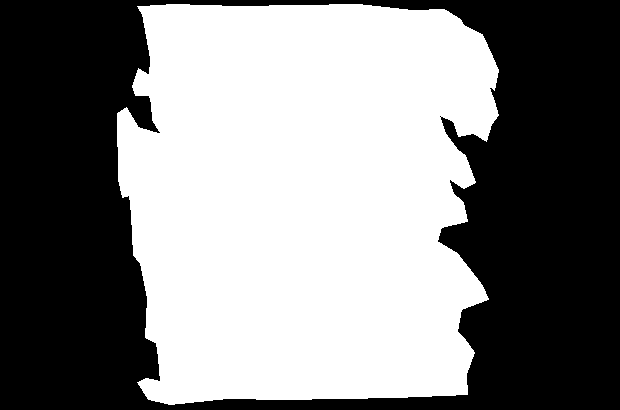type2: (111, 1, 501, 404)
